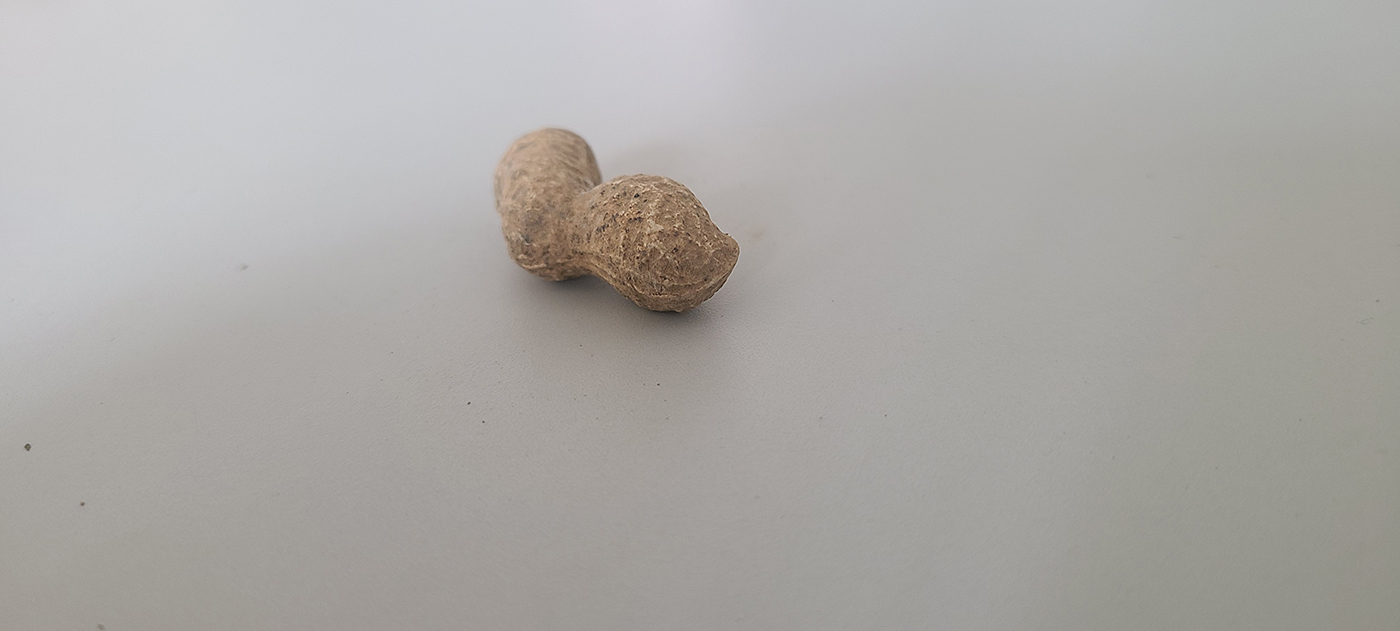h: (490, 122, 742, 316)
